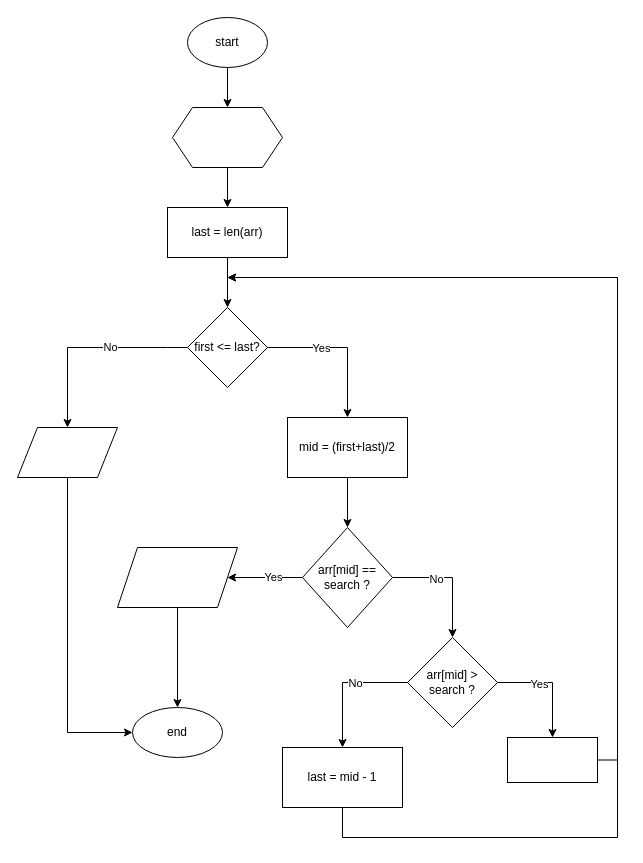
This 643x863 diagram has some shape labels left out. The shapes that lost their labels are listed below. From the top down, each one's centre as x and y in pixels, then its label:
point 227,137: arr, first, search
point 67,452: print empty
point 177,577: print arr[mid]
point 552,759: first = mid + 1
